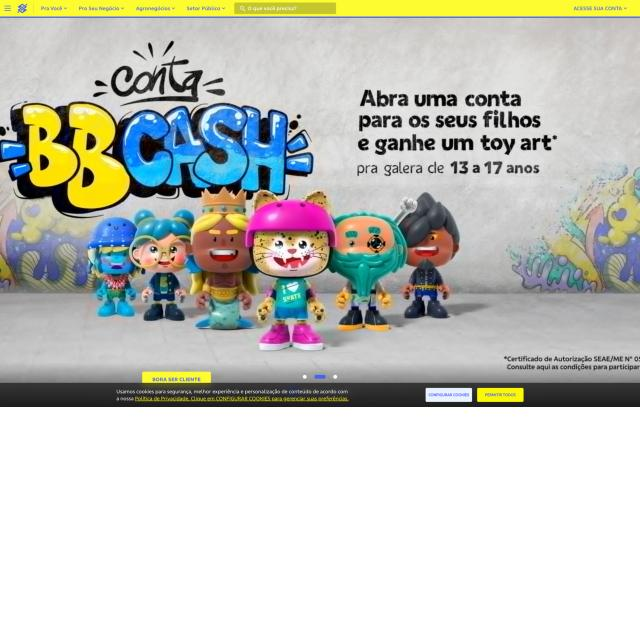input: (234, 1, 337, 15)
logo: (15, 1, 30, 15)
navigation: (2, 4, 13, 13)
